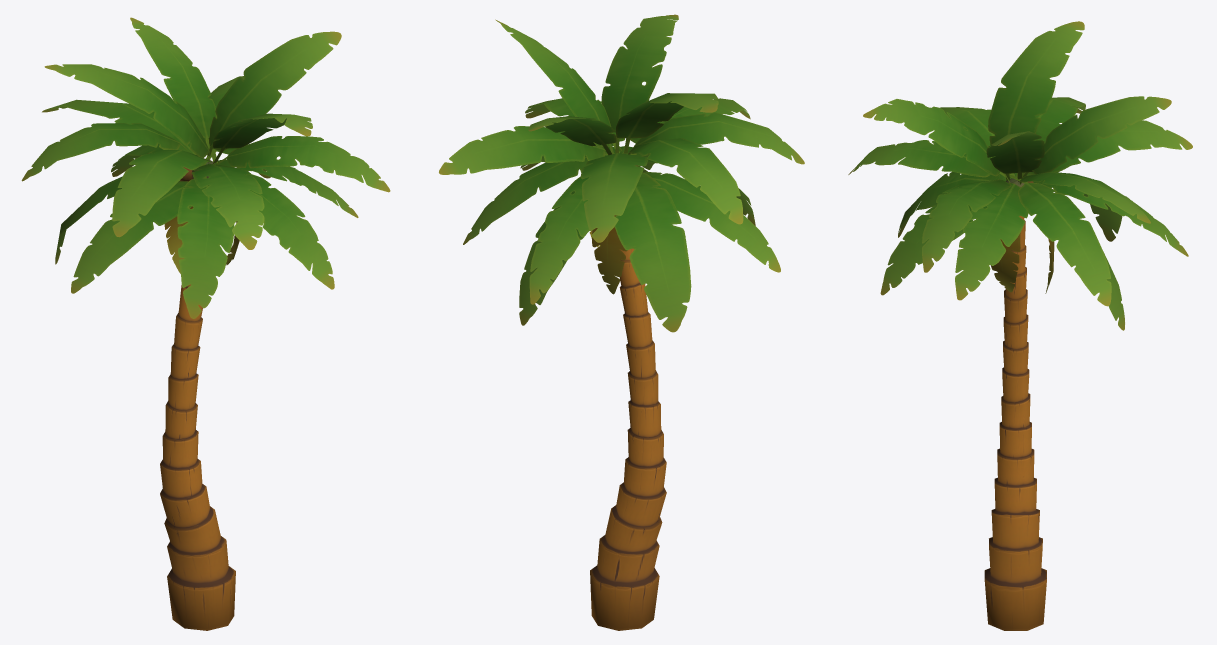
File: SM_Nature_Tree_03.fbx
The picture shows the model from 3 angles, left to right: view 1: azimuth 30°, elevation 25°; view 2: azimuth 150°, elevation 25°; view 3: azimuth 270°, elevation 25°; orthographic projection. The views are drawn at different scales.
Visible parts, largest first — view 1: Tree_03_LOD0; view 2: Tree_03_LOD0; view 3: Tree_03_LOD0.
Part boxes in pixels (left/top/right/bottom): Tree_03_LOD0: left=21, top=17, right=390, bottom=630; Tree_03_LOD0: left=439, top=14, right=804, bottom=630; Tree_03_LOD0: left=848, top=21, right=1192, bottom=630.
Size of the model in its own units: 409 by 709 by 427.
